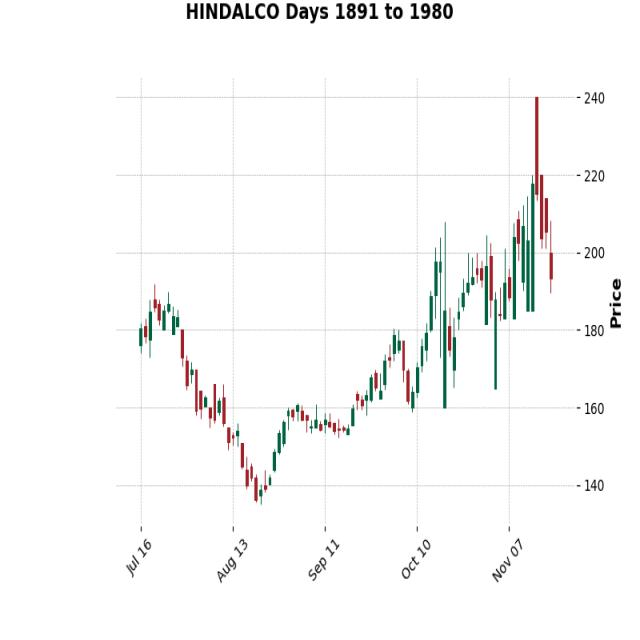Triple Bottom Reversal: (413, 192, 572, 433)
